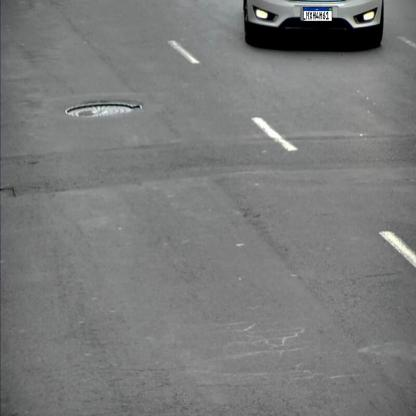PlacaM: (303, 7, 332, 21)
